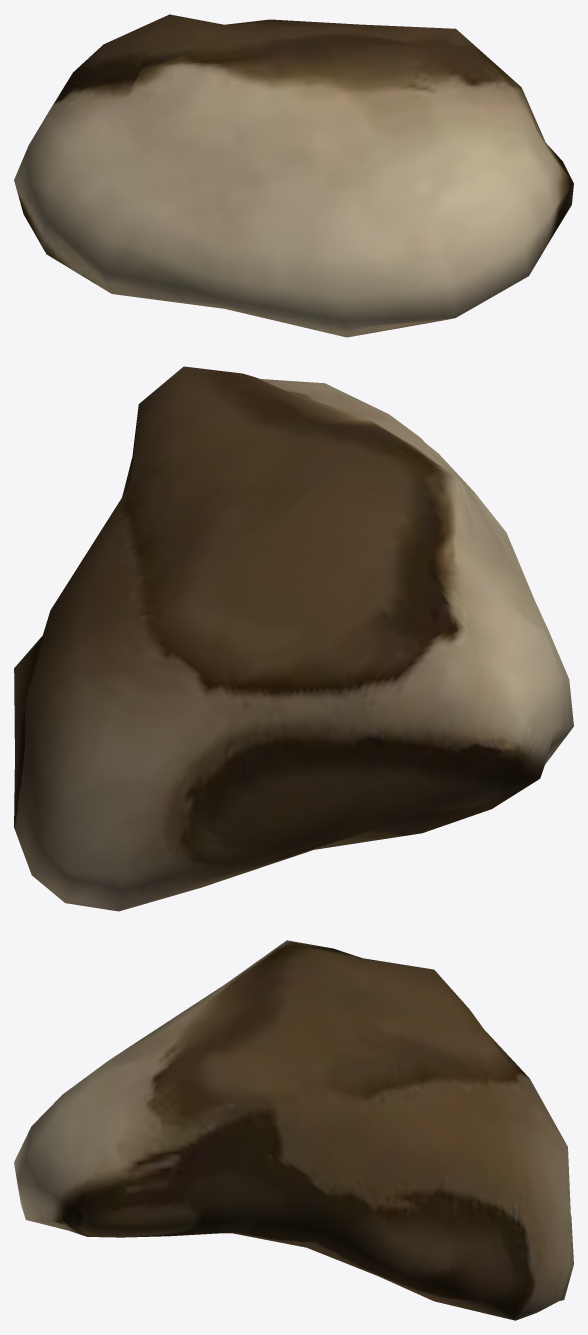
The model's file is Distal_Carpal_II.glb.
3 renders of one model, top to bottom at view 1: azimuth 30°, elevation 25°; view 2: azimuth 150°, elevation 25°; view 3: azimuth 270°, elevation 25°, orthographic. The views are drawn at different scales.
Visible parts, largest first — view 1: Distal_Carpal_II_Left1:Group33496; view 2: Distal_Carpal_II_Left1:Group33496; view 3: Distal_Carpal_II_Left1:Group33496.
Part boxes in pixels (x1,y1,x2,y2): Distal_Carpal_II_Left1:Group33496: (14, 14, 573, 337); Distal_Carpal_II_Left1:Group33496: (14, 366, 573, 911); Distal_Carpal_II_Left1:Group33496: (14, 940, 573, 1320).
Size of the model in its own units: 8.14 by 5.4 by 9.55.
1 material, 1 textured.
